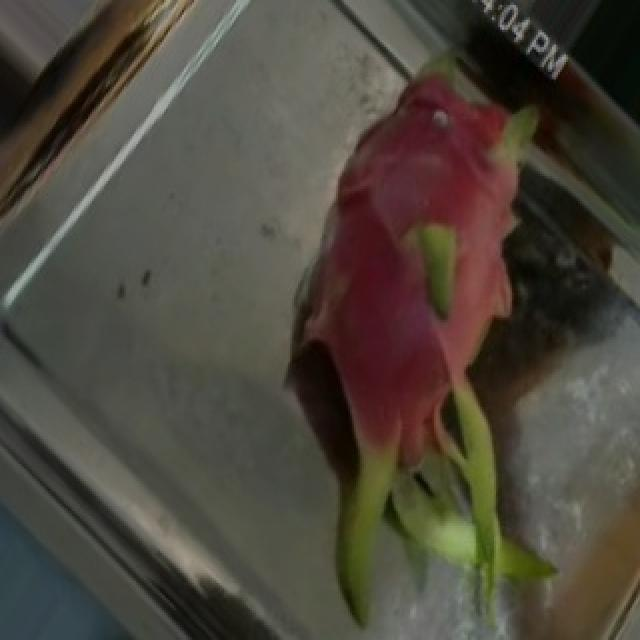fruit: (210, 221, 634, 637), (232, 0, 640, 407)
